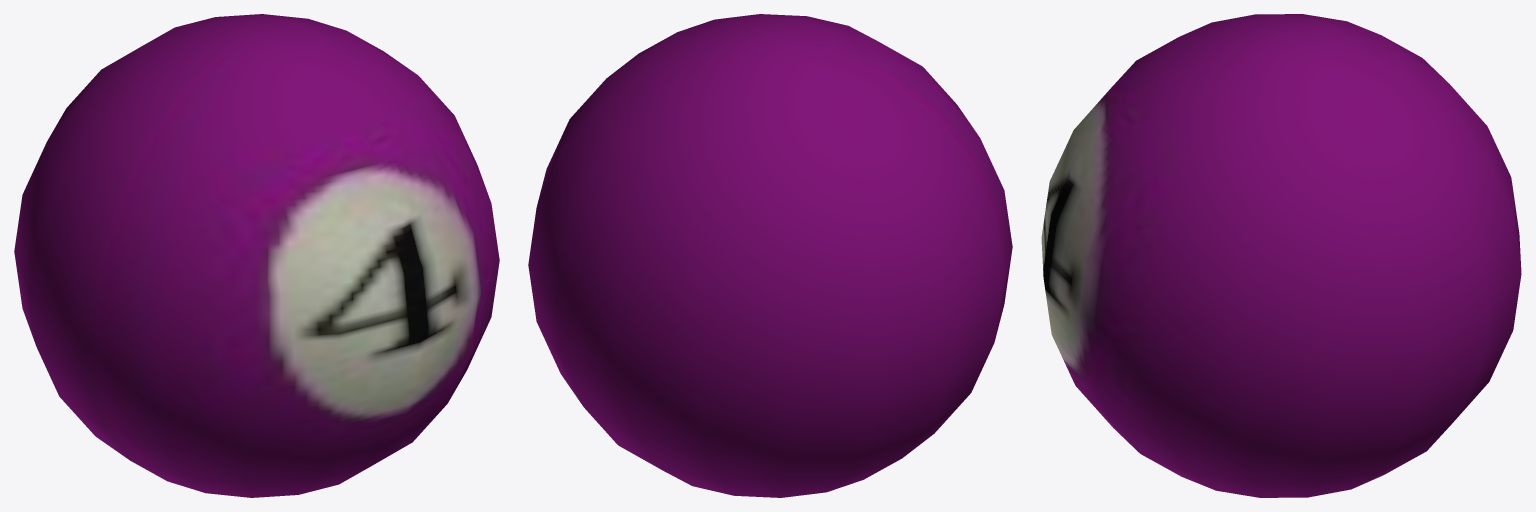
3 views of the same model, side by side, from view 1: azimuth 30°, elevation 25°; view 2: azimuth 150°, elevation 25°; view 3: azimuth 270°, elevation 25° (orthographic).
Parts seen in each view (by area): view 1: bi_a_04; view 2: bi_a_04; view 3: bi_a_04.
Part boxes in pixels (x1=…): bi_a_04: x1=14, y1=14, x2=499, y2=497; bi_a_04: x1=528, y1=14, x2=1012, y2=497; bi_a_04: x1=1041, y1=14, x2=1521, y2=497.
Bounding box in the file's own units: 12.94 × 13.13 × 12.94.
